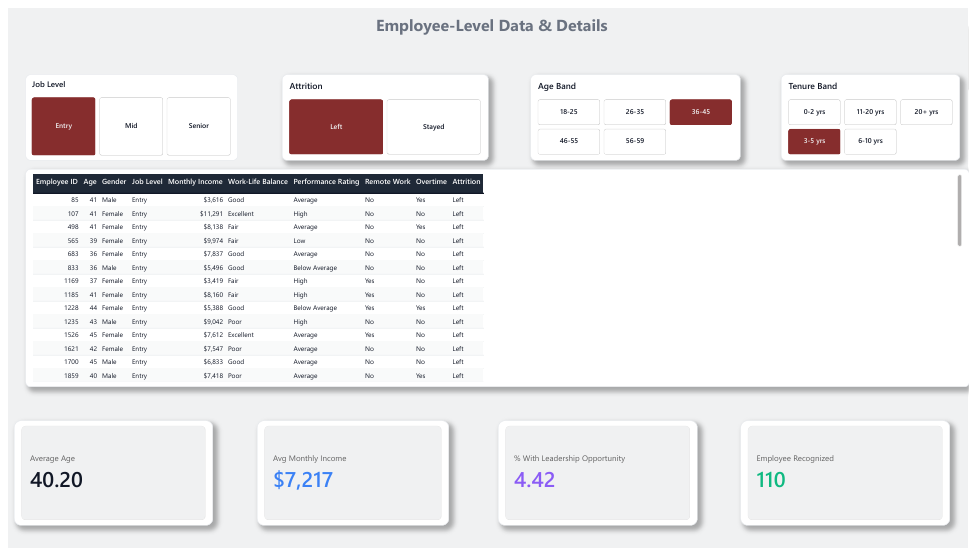

This screenshot's page, from the dashboard's own definition file:
{"tool":"powerbi","page":{"name":"Employee detail","canvas":[1920,1080],"ordinal":3},"visuals":[{"type":"textbox","box":[9.5,0,1911.1,71.6],"z":0},{"type":"advancedSlicerVisual","fields":{"Values":["DimJobLevel.Job Level"]},"box":[33.4,131.2,424.7,171.8],"z":1000},{"type":"advancedSlicerVisual","fields":{"Values":["DimAttrition.Attrition"]},"box":[546.4,131.2,412.8,171.8],"z":2000},{"type":"advancedSlicerVisual","fields":{"Values":["factemployees.Age Band"]},"box":[1042.6,131.2,419.9,171.8],"z":3000},{"type":"advancedSlicerVisual","fields":{"Values":["factemployees.Tenure Band"]},"box":[1543.7,131.2,357.9,171.8],"z":4000},{"type":"tableEx","fields":{"Values":["CountNonNull(factemployees.Employee ID)","Sum(factemployees.Age)","factemployees.Gender","DimJobLevel.Job Level","Sum(factemployees.Monthly Income)","factemployees.Work-Life Balance","factemployees.Performance Rating","DimRemoteWork.Remote Work","factemployees.Overtime","DimAttrition.Attrition"]},"box":[33.4,319.7,1887.3,436.6],"z":5000},{"type":"cardVisual","fields":{"Data":["factemployees.AvgAge"]},"box":[9.5,823.1,398.4,210],"z":6000},{"type":"cardVisual","fields":{"Data":["factemployees.AvgMonthlyIncomeFormatted"]},"box":[496.3,823.1,384.1,210],"z":7000},{"type":"cardVisual","fields":{"Data":["factemployees.LeadershipOppPercent"]},"box":[978.2,823.1,398.4,210],"z":8000},{"type":"cardVisual","fields":{"Data":["factemployees.WithEmployeeRecognition"]},"box":[1462.6,823.1,419.9,210],"z":9000}]}

Visuals, with their boxes in screenshot pixels (x1, y1, x2, y2), scaled from the page's 1920x1080 canvas onto the 975x559 screenshot:
textbox: {"left": 5, "top": 0, "right": 974, "bottom": 37}
advancedSlicerVisual - DimJobLevel.Job Level: {"left": 17, "top": 68, "right": 233, "bottom": 157}
advancedSlicerVisual - DimAttrition.Attrition: {"left": 277, "top": 68, "right": 487, "bottom": 157}
advancedSlicerVisual - factemployees.Age Band: {"left": 529, "top": 68, "right": 743, "bottom": 157}
advancedSlicerVisual - factemployees.Tenure Band: {"left": 784, "top": 68, "right": 966, "bottom": 157}
tableEx - CountNonNull(factemployees.Employee ID) x Sum(factemployees.Age): {"left": 17, "top": 165, "right": 974, "bottom": 391}
cardVisual - factemployees.AvgAge: {"left": 5, "top": 426, "right": 207, "bottom": 535}
cardVisual - factemployees.AvgMonthlyIncomeFormatted: {"left": 252, "top": 426, "right": 447, "bottom": 535}
cardVisual - factemployees.LeadershipOppPercent: {"left": 497, "top": 426, "right": 699, "bottom": 535}
cardVisual - factemployees.WithEmployeeRecognition: {"left": 743, "top": 426, "right": 956, "bottom": 535}
